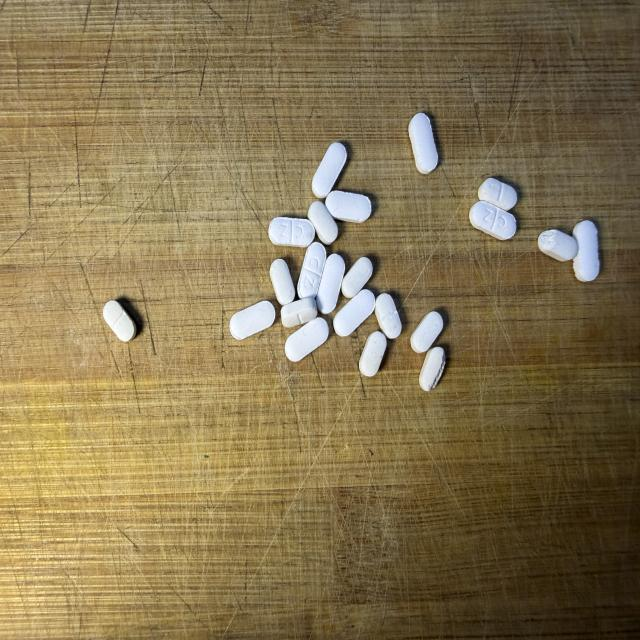pill: (334, 290, 375, 336), (312, 143, 346, 198), (285, 318, 328, 361), (230, 301, 276, 340), (470, 201, 516, 240), (316, 254, 345, 313), (409, 113, 437, 174), (298, 242, 326, 299), (573, 221, 599, 281), (326, 191, 371, 222), (269, 217, 315, 247), (410, 312, 443, 353), (103, 301, 136, 342), (308, 201, 338, 244), (478, 178, 517, 210), (375, 293, 402, 339), (538, 230, 578, 261), (342, 257, 372, 298), (359, 332, 386, 377), (270, 259, 295, 305), (419, 347, 445, 391), (281, 298, 317, 328)
